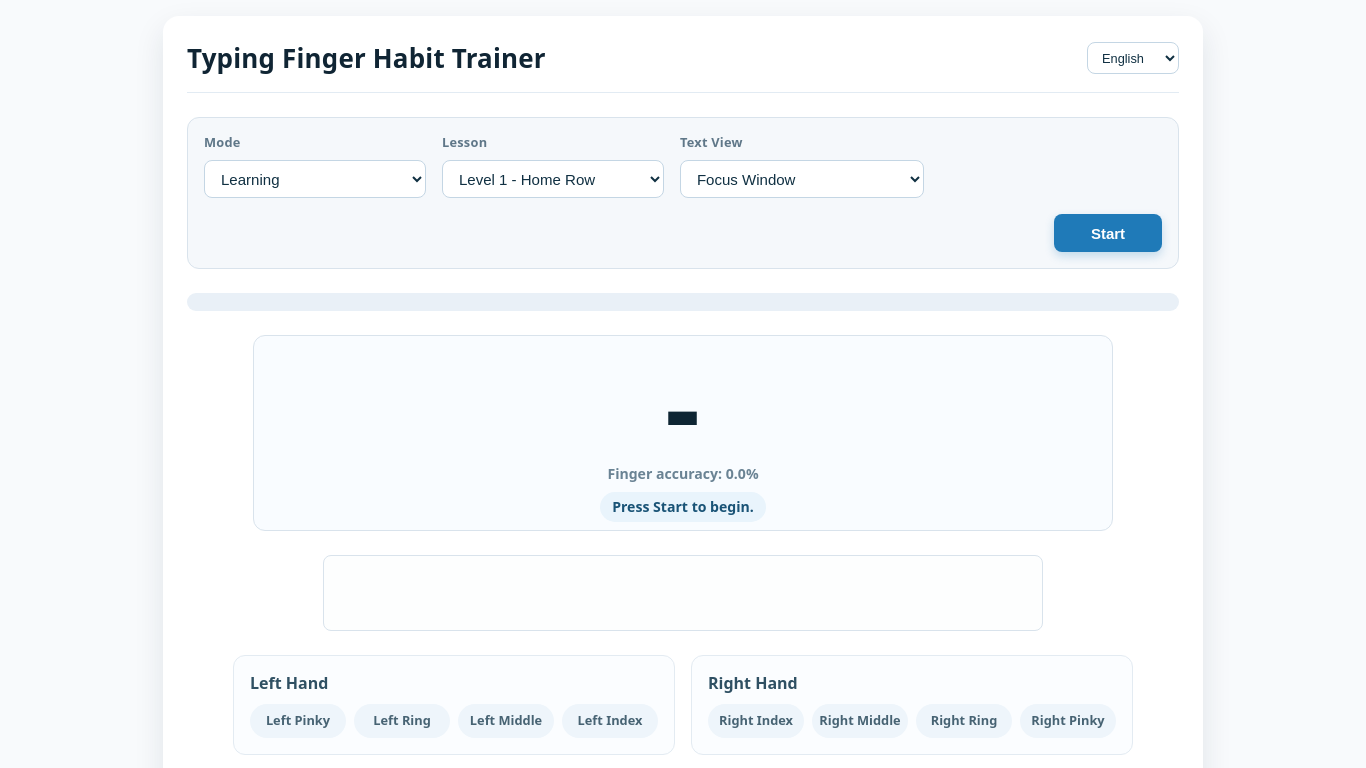
Test case: TrainerPage integration › shows unsupported-key feedback while running
Click the button "Start" at (1108, 233), box [1054, 214, 1162, 252]
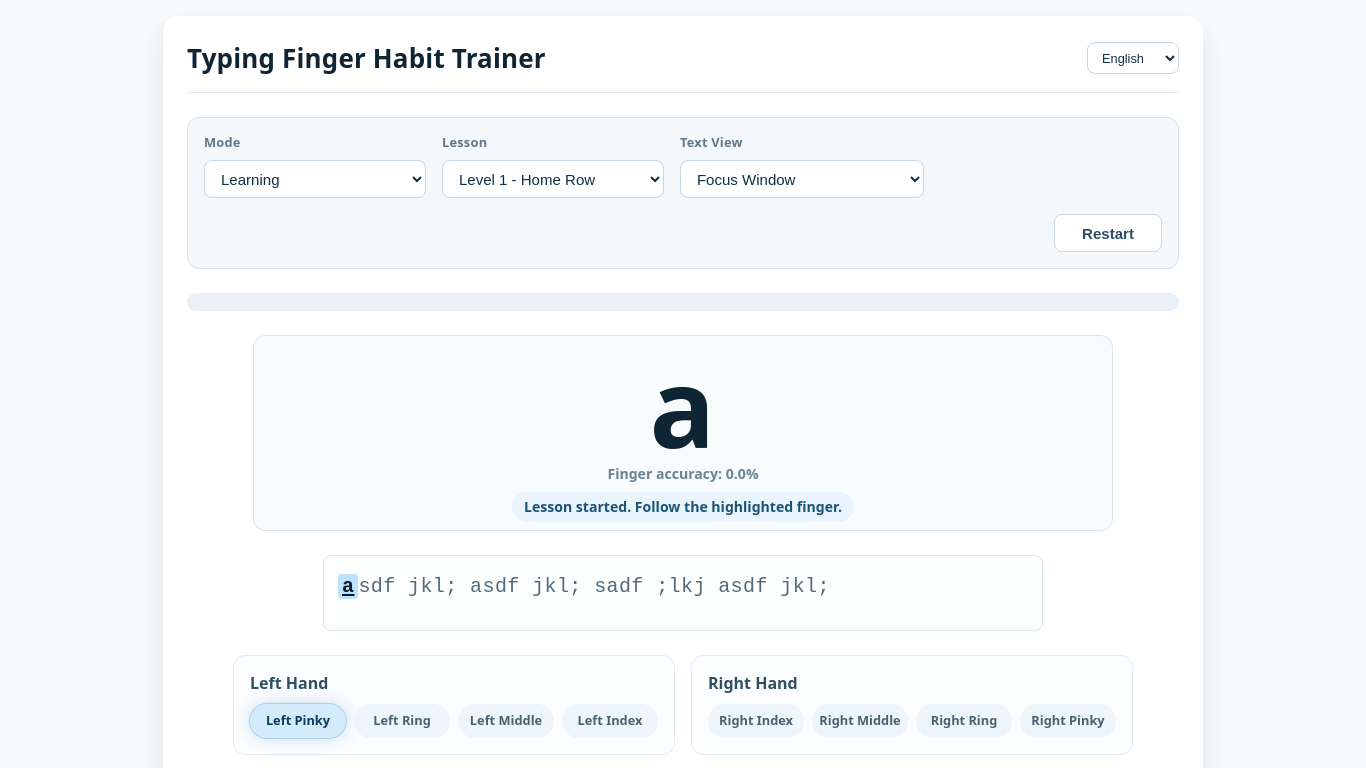
Press Enter
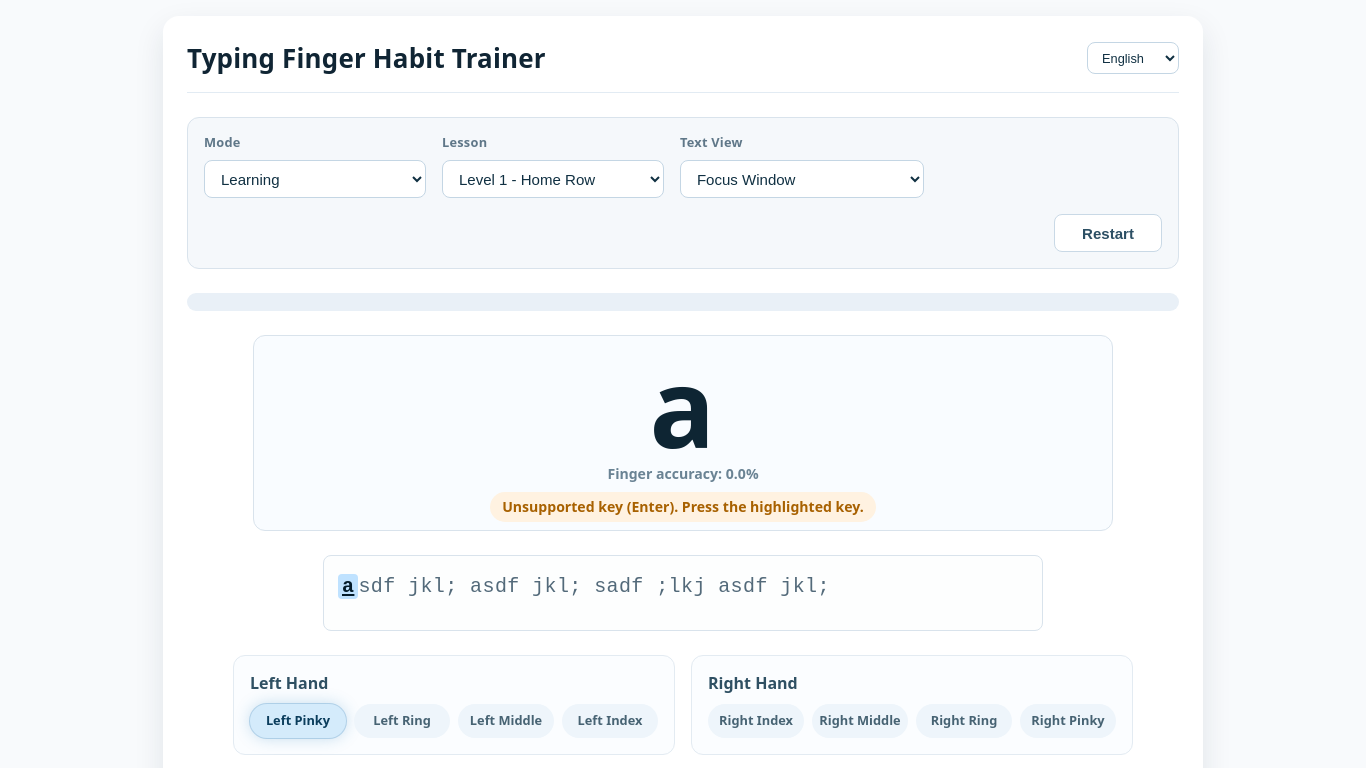
Expected: the text "Unsupported key (Enter). Press the highlighted key." is shown, [490, 492, 876, 522]
